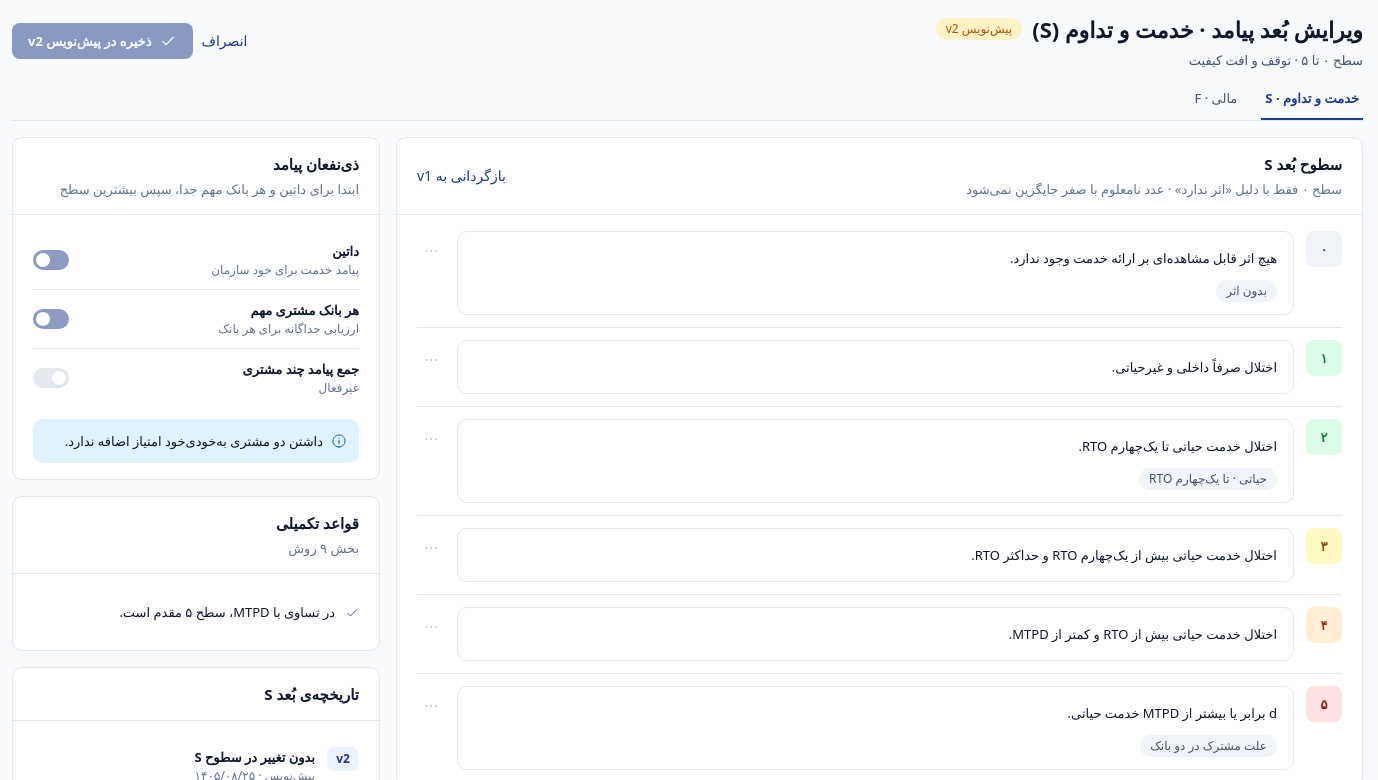
ImpactLevelsPage › saves the edited criteria and tags into the draft
Step 1. Type " بدون تعهد مشتری." into the text box named "معیار سطح ۱" → (876, 367), box [474,353,1277,381]
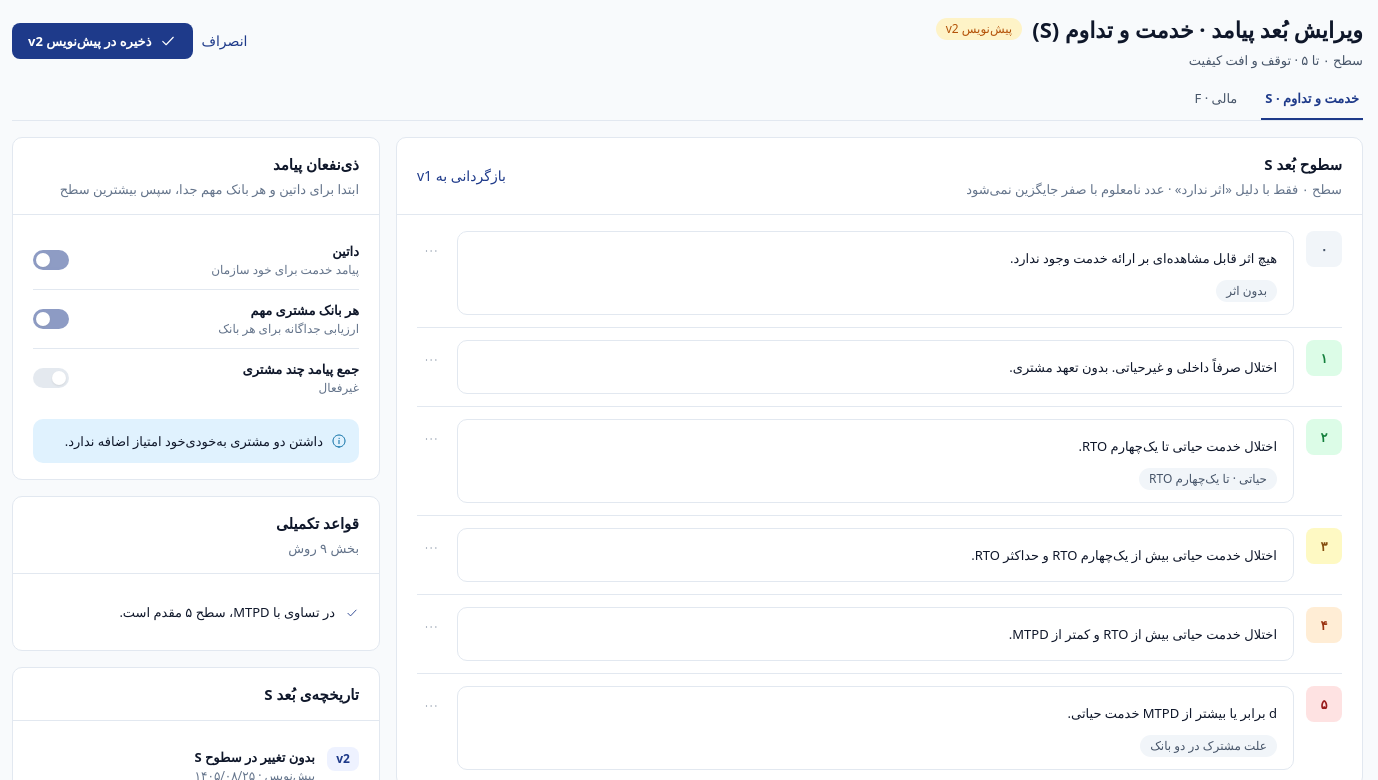
Step 2. Click the button named "ویرایش برچسب‌های سطح ۱" → (431, 360), box [417,344,445,376]
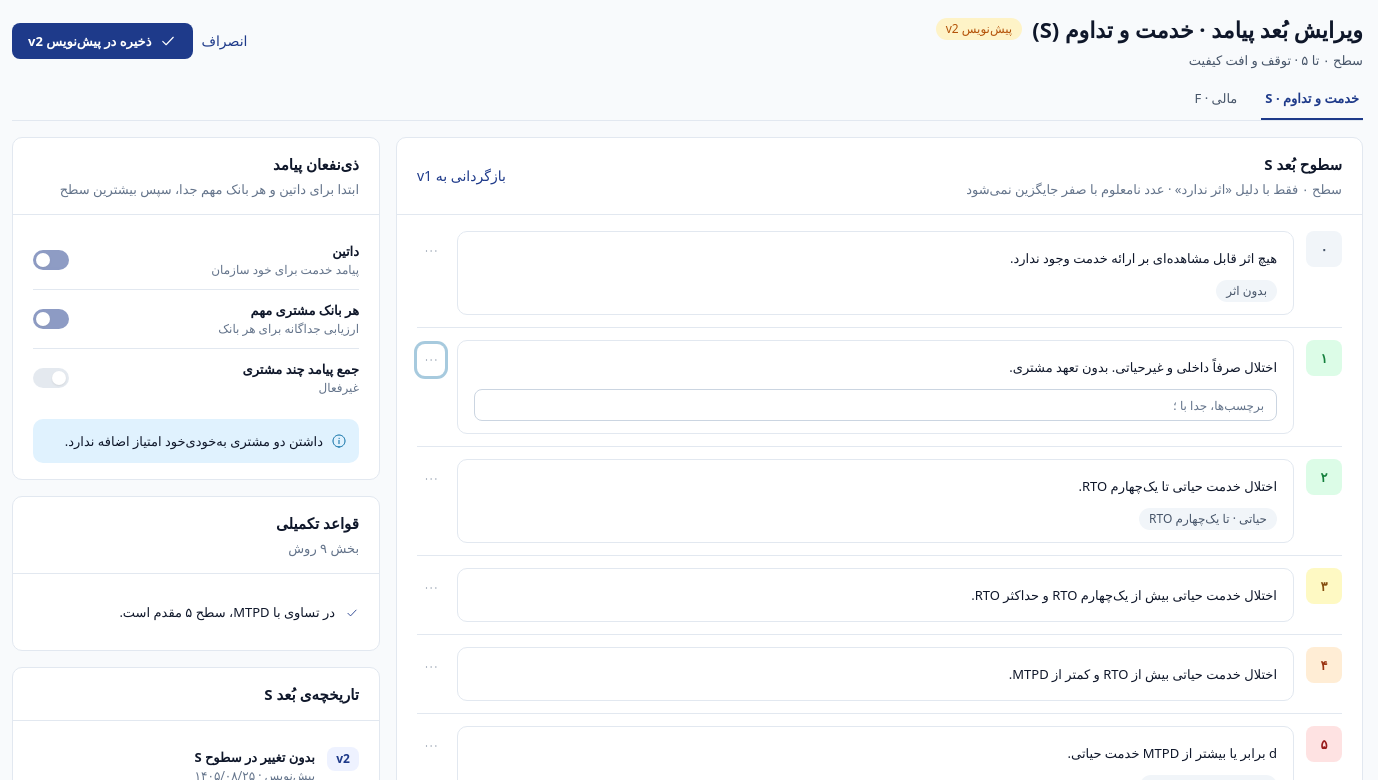
Step 3. Type "غیرحیاتی ؛ داخلی" into the field named "برچسب‌های سطح ۱" → (876, 405), box [474,389,1277,421]
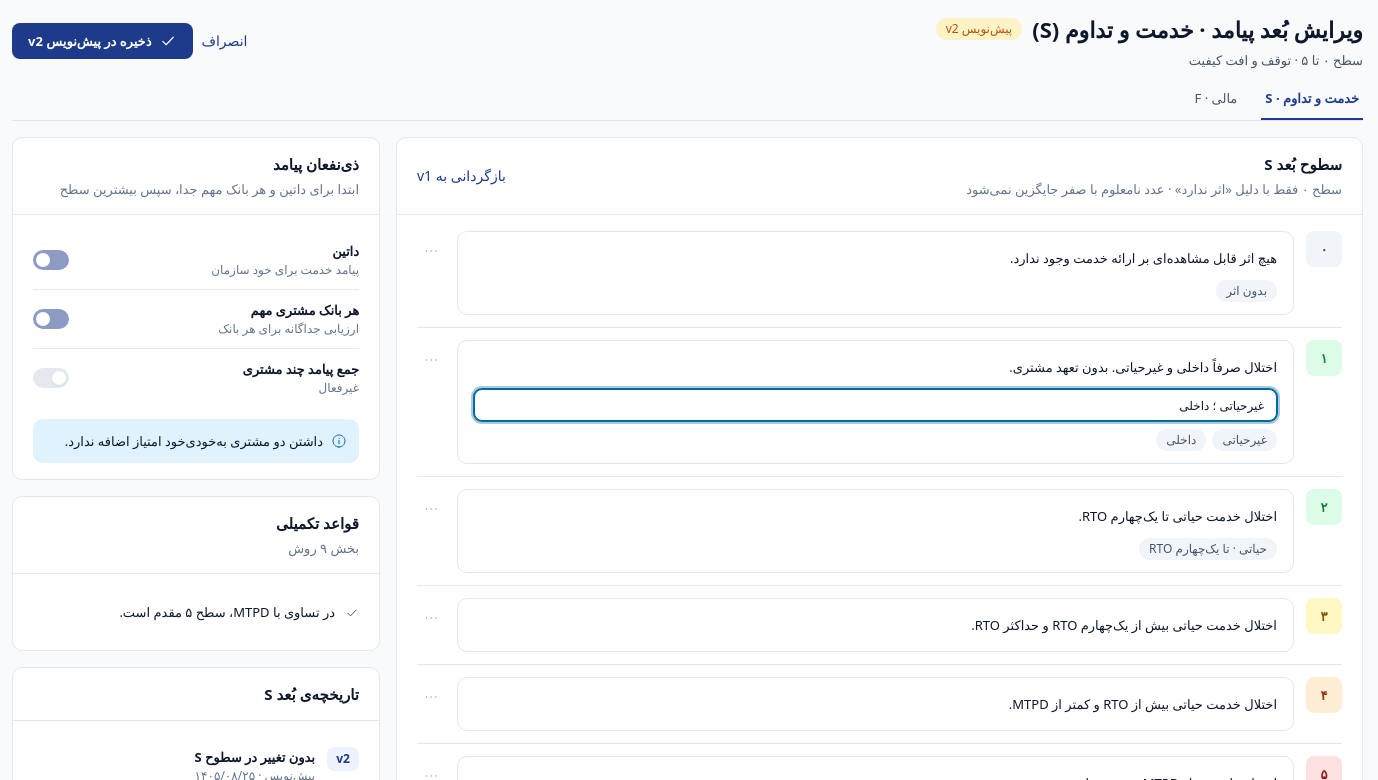
Step 4. Click the button "ذخیره در پیش‌نویس v2" → (103, 41), box [12,23,193,59]
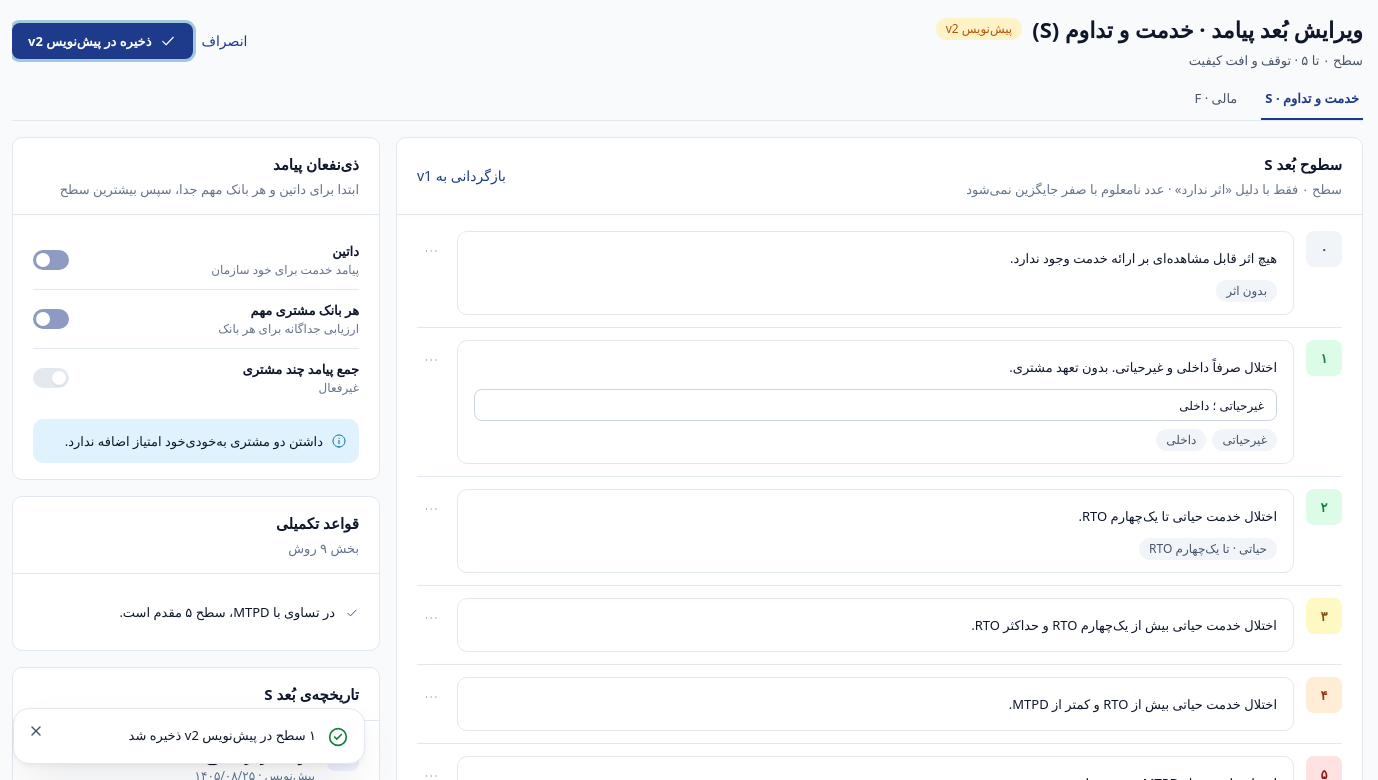
Expected: the text "۱ سطح در پیش‌نویس v2 ذخیره شد" is shown, [129,725,316,745]
